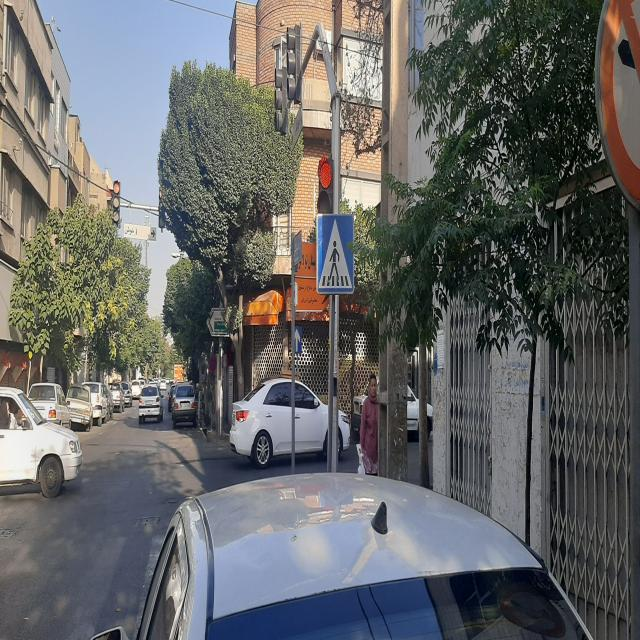p crossing ahead: (316, 219, 360, 294)
